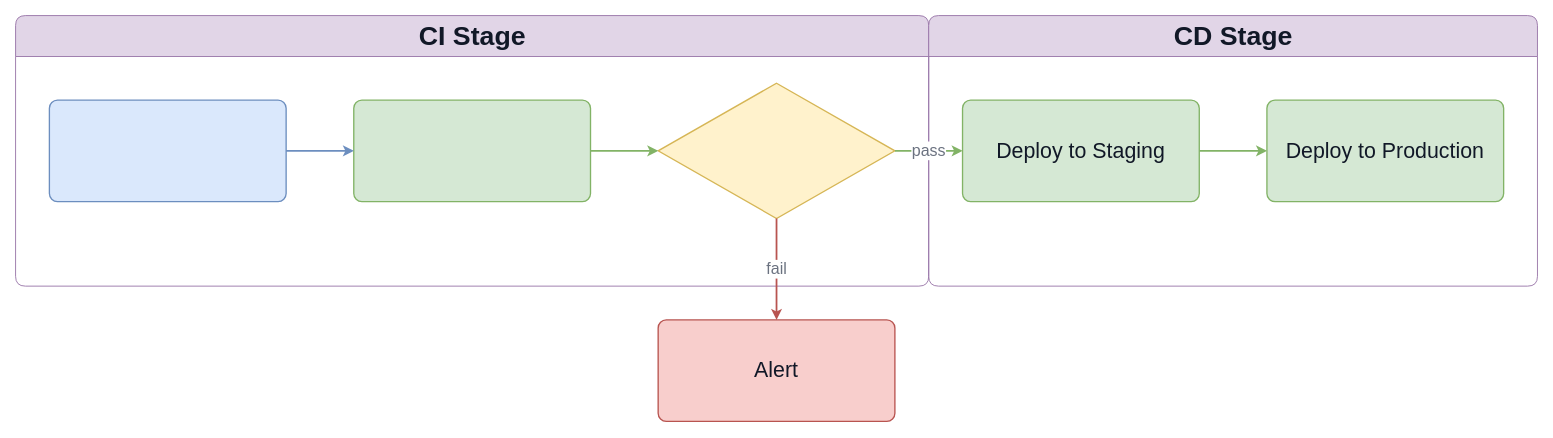
The diagram is 1553 pixels wide and 438 high, and some of its shapes have lost their labels. The shapes that lost their labels are listed below. From the top down, each one's centre as x and y in pixels, then its label:
At point (167, 150): "Code Commit".
At point (472, 150): "Build".
At point (776, 150): "Test".
